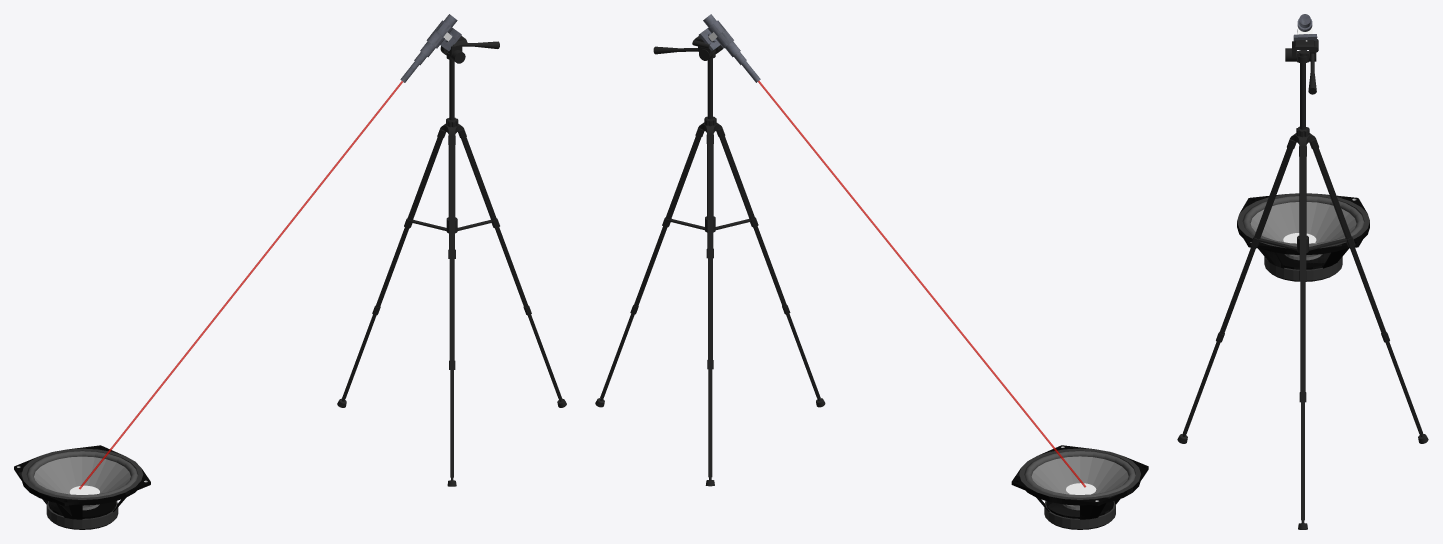
Rendered from laserCompleto.obj.
3 renders of one model, left to right at view 1: azimuth 30°, elevation 25°; view 2: azimuth 150°, elevation 25°; view 3: azimuth 270°, elevation 25°, orthographic. The views are drawn at different scales.
Visible parts, largest first — view 1: Mesh1 Component_1_1 Group1 Model, Mesh29 Group1 Model, Mesh22 Group22 Group19 Group4 Tripod1 Group1 Model, Mesh10 Group8 Group5 Group4 Tripod1 Group1 Model, Mesh26 Group27 Group24 Group4 Tripod1 Group1 Model, Mesh21 Group21 Group19 Group4 Tripod1 Group1 Model; view 2: Mesh1 Component_1_1 Group1 Model, Mesh29 Group1 Model, Mesh26 Group27 Group24 Group4 Tripod1 Group1 Model, Mesh10 Group8 Group5 Group4 Tripod1 Group1 Model, Mesh22 Group22 Group19 Group4 Tripod1 Group1 Model; view 3: Mesh1 Component_1_1 Group1 Model, Mesh10 Group8 Group5 Group4 Tripod1 Group1 Model, Mesh22 Group22 Group19 Group4 Tripod1 Group1 Model, Mesh26 Group27 Group24 Group4 Tripod1 Group1 Model, Mesh9 Group7 Group5 Group4 Tripod1 Group1 Model, Mesh18 Group17 Group4 Tripod1 Group1 Model, Mesh21 Group21 Group19 Group4 Tripod1 Group1 Model, Mesh25 Group26 Group24 Group4 Tripod1 Group1 Model, Mesh19 Group18 Group4 Tripod1 Group1 Model, Mesh11 Group9 Group5 Group4 Tripod1 Group1 Model, Mesh23 Group23 Group19 Group4 Tripod1 Group1 Model, Mesh27 Group28 Group24 Group4 Tripod1 Group1 Model (+1 smaller).
Boxes of the visible parts, bbox=[...] form: Mesh1 Component_1_1 Group1 Model: bbox=[14, 445, 150, 529]; Mesh29 Group1 Model: bbox=[79, 81, 402, 489]; Mesh22 Group22 Group19 Group4 Tripod1 Group1 Model: bbox=[448, 135, 455, 258]; Mesh10 Group8 Group5 Group4 Tripod1 Group1 Model: bbox=[458, 129, 499, 228]; Mesh26 Group27 Group24 Group4 Tripod1 Group1 Model: bbox=[404, 129, 445, 228]; Mesh21 Group21 Group19 Group4 Tripod1 Group1 Model: bbox=[449, 259, 455, 369]; Mesh1 Component_1_1 Group1 Model: bbox=[1011, 445, 1148, 529]; Mesh29 Group1 Model: bbox=[758, 80, 1086, 487]; Mesh26 Group27 Group24 Group4 Tripod1 Group1 Model: bbox=[706, 134, 713, 258]; Mesh10 Group8 Group5 Group4 Tripod1 Group1 Model: bbox=[662, 128, 704, 227]; Mesh22 Group22 Group19 Group4 Tripod1 Group1 Model: bbox=[716, 128, 758, 227]; Mesh1 Component_1_1 Group1 Model: bbox=[1237, 193, 1369, 281]; Mesh10 Group8 Group5 Group4 Tripod1 Group1 Model: bbox=[1299, 146, 1306, 281]; Mesh22 Group22 Group19 Group4 Tripod1 Group1 Model: bbox=[1250, 139, 1296, 247]; Mesh26 Group27 Group24 Group4 Tripod1 Group1 Model: bbox=[1309, 139, 1355, 247]; Mesh9 Group7 Group5 Group4 Tripod1 Group1 Model: bbox=[1299, 281, 1306, 402]; Mesh18 Group17 Group4 Tripod1 Group1 Model: bbox=[1285, 39, 1318, 94]; Mesh21 Group21 Group19 Group4 Tripod1 Group1 Model: bbox=[1216, 246, 1255, 342]; Mesh25 Group26 Group24 Group4 Tripod1 Group1 Model: bbox=[1350, 246, 1389, 342]; Mesh19 Group18 Group4 Tripod1 Group1 Model: bbox=[1297, 50, 1308, 129]; Mesh11 Group9 Group5 Group4 Tripod1 Group1 Model: bbox=[1301, 402, 1304, 523]; Mesh23 Group23 Group19 Group4 Tripod1 Group1 Model: bbox=[1182, 342, 1220, 436]; Mesh27 Group28 Group24 Group4 Tripod1 Group1 Model: bbox=[1385, 342, 1423, 436].
Size of the model in its own units: 610 by 455 by 226.
11 materials, 3 textured.
